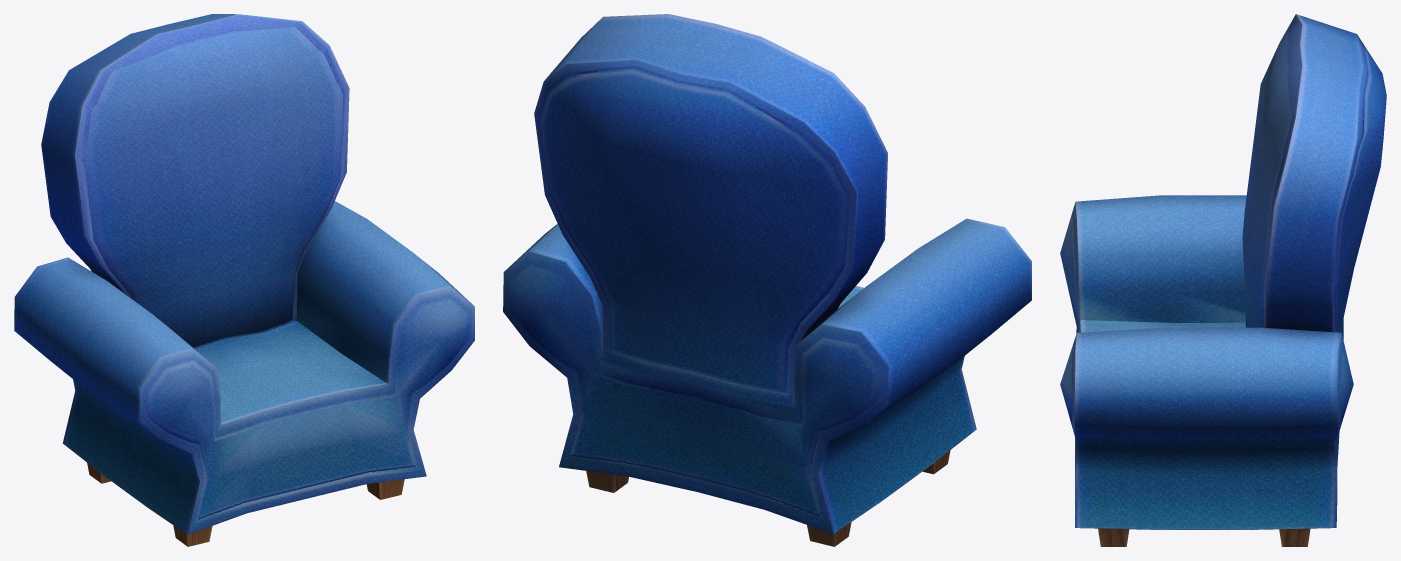
The model's file is chair.fbx.
3 renders of one model, left to right at view 1: azimuth 30°, elevation 25°; view 2: azimuth 150°, elevation 25°; view 3: azimuth 270°, elevation 25°, orthographic. The views are drawn at different scales.
Parts seen in each view (by area): view 1: defaultMaterial; view 2: defaultMaterial; view 3: defaultMaterial.
Part boxes in pixels (<box>): defaultMaterial: <box>14,14,474,546</box>; defaultMaterial: <box>503,14,1031,546</box>; defaultMaterial: <box>1060,14,1386,546</box>.
Bounding box in the file's own units: 80.43 × 95.49 × 63.16.
Materials: 1 (1 with a texture image).
